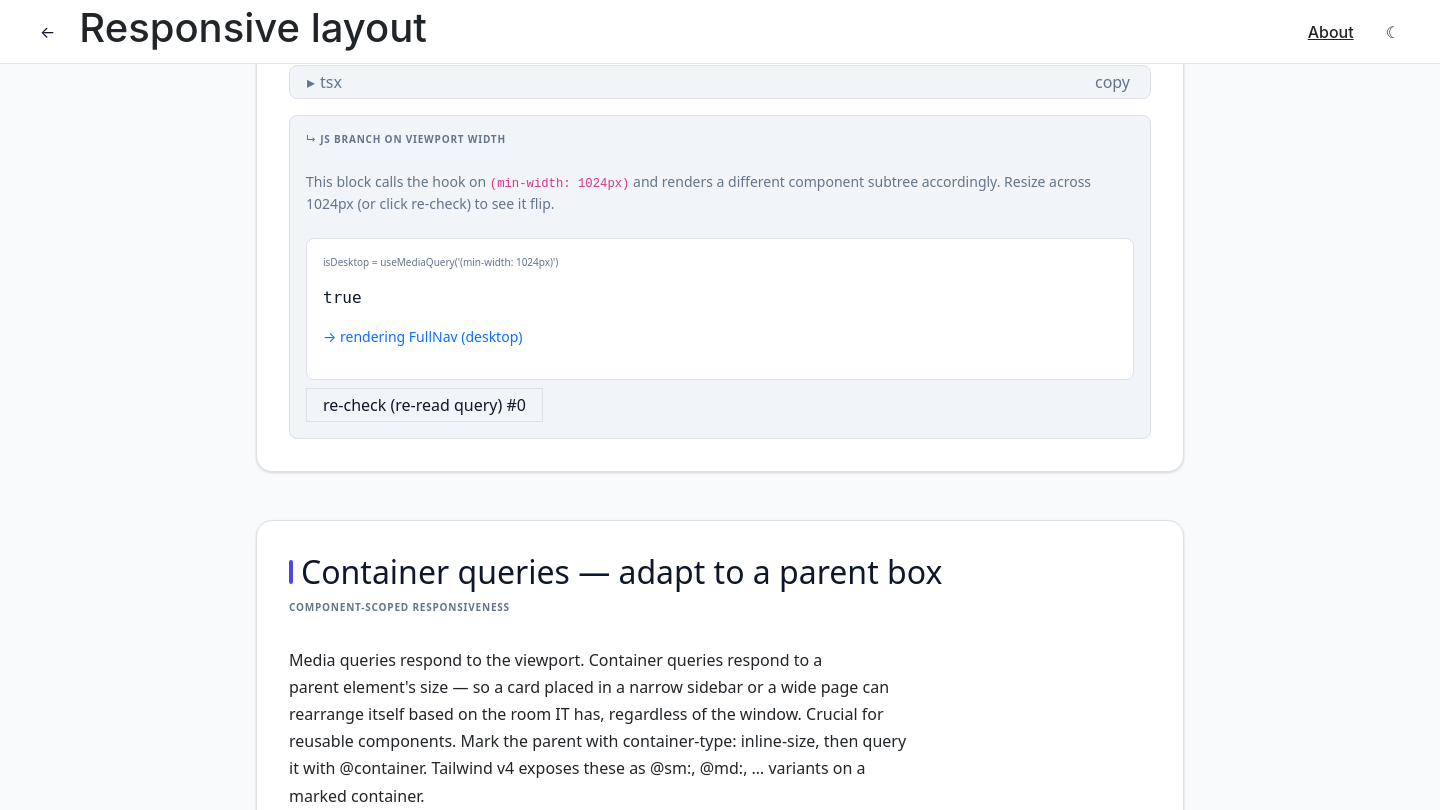
Scenario: Responsive layout screen › the useMediaQuery re-check button forces a re-render
This screenshot has width=1440, height=810.
(page scrolled)
What coordinates should you click on to do the following:
click the button "re-check (re-read query) #0"
I would click on:
 (424, 405)
Its box is [306, 388, 543, 422].
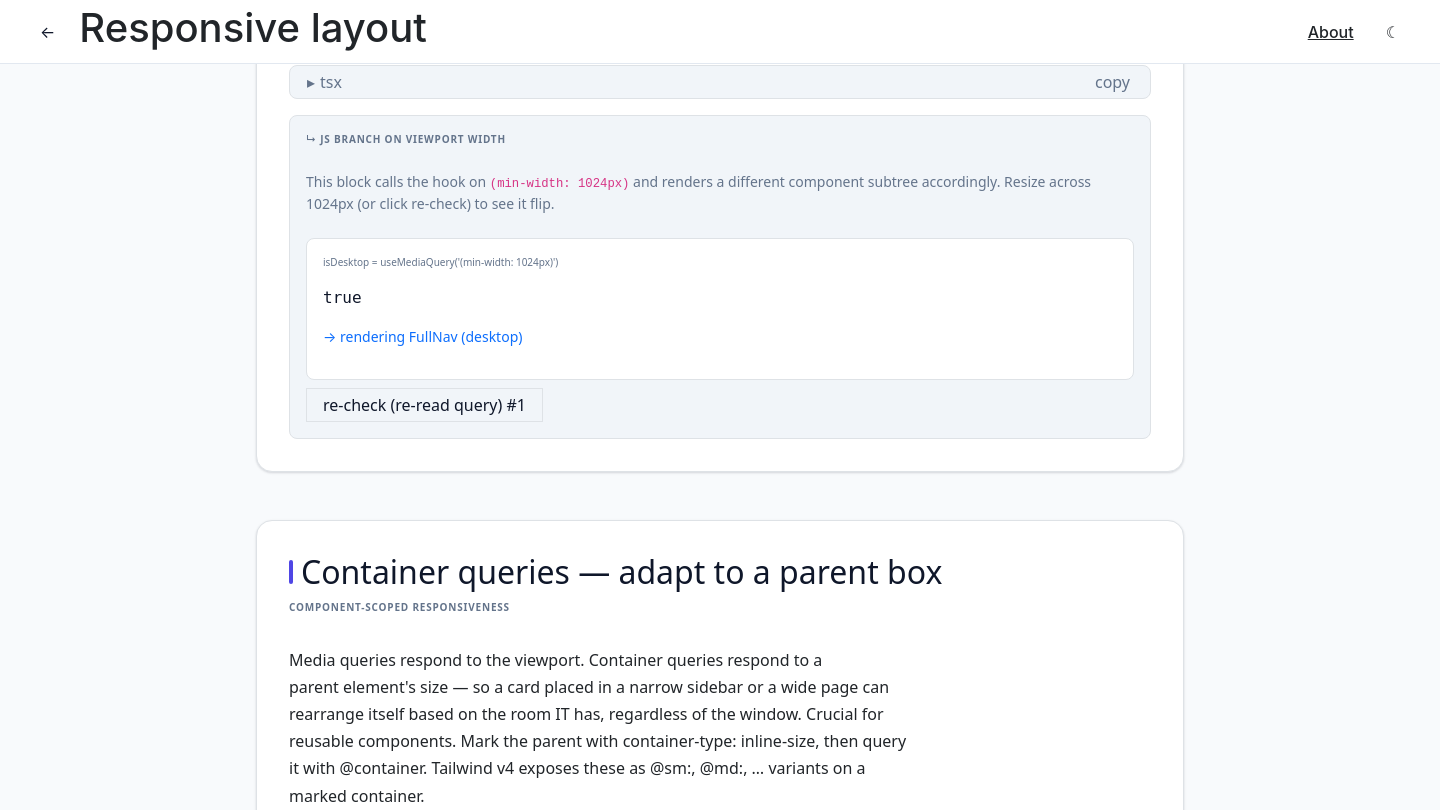
Expected: the button "re-check (re-read query) #1" is shown, [306, 388, 543, 422]
